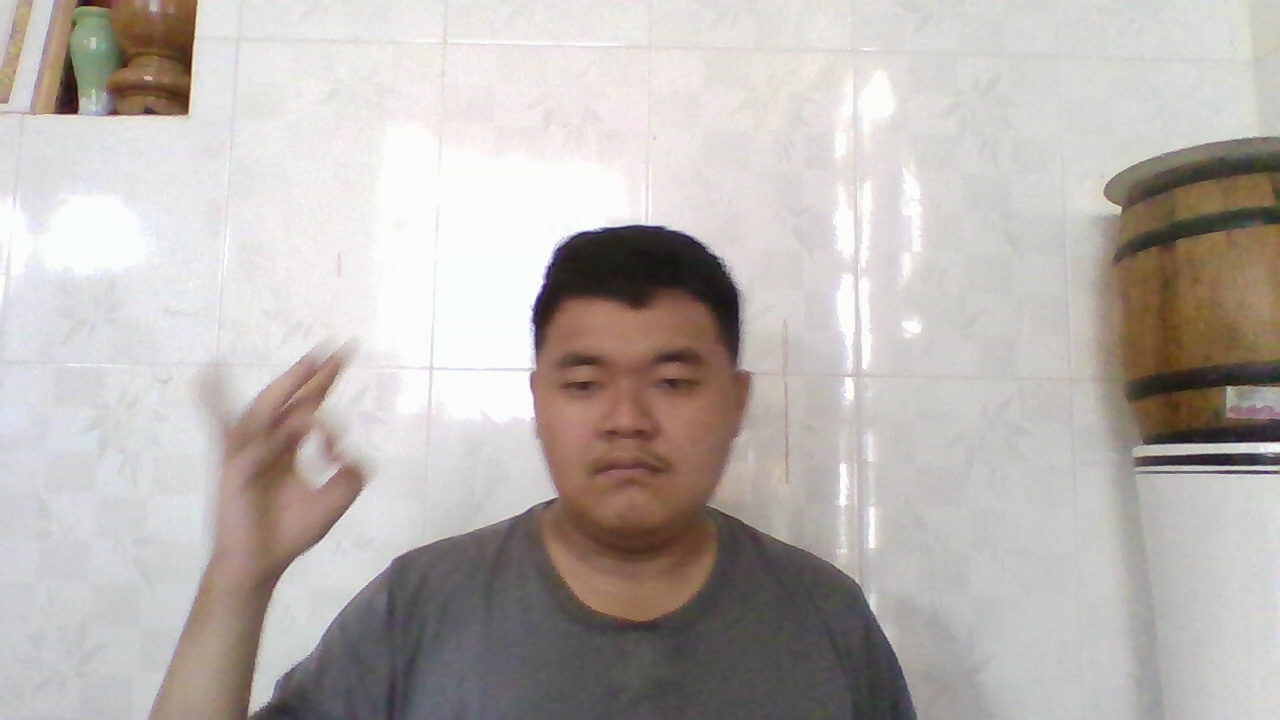H: (195, 337, 368, 579)
